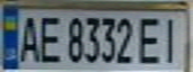2: (115, 14, 139, 65)
3: (81, 13, 103, 64), (100, 13, 118, 64)
8: (63, 12, 84, 64)
A: (15, 12, 42, 64)
E: (136, 14, 166, 65), (36, 11, 63, 64)
I: (157, 13, 187, 64)
